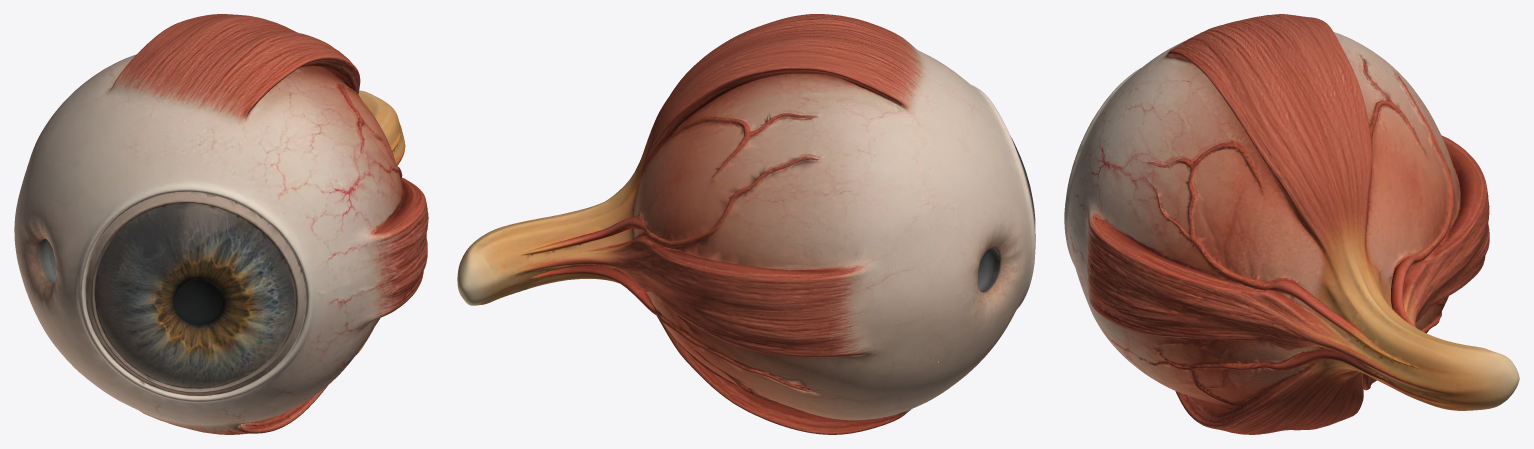
The model's file is eyeball.glb.
3 renders of one model, left to right at view 1: azimuth 30°, elevation 25°; view 2: azimuth 150°, elevation 25°; view 3: azimuth 270°, elevation 25°, orthographic.
Parts seen in each view (by area): view 1: tripo_node_ebf243bf-d3b6-4331-9960-3b03130a2b84; view 2: tripo_node_ebf243bf-d3b6-4331-9960-3b03130a2b84; view 3: tripo_node_ebf243bf-d3b6-4331-9960-3b03130a2b84.
Part boxes in pixels (x1,y1,x2,y2): tripo_node_ebf243bf-d3b6-4331-9960-3b03130a2b84: (14, 14, 428, 434); tripo_node_ebf243bf-d3b6-4331-9960-3b03130a2b84: (457, 14, 1035, 434); tripo_node_ebf243bf-d3b6-4331-9960-3b03130a2b84: (1064, 14, 1519, 434).
Size of the model in its own units: 0.9793 by 0.8046 by 0.8529.
1 material, 1 textured.
